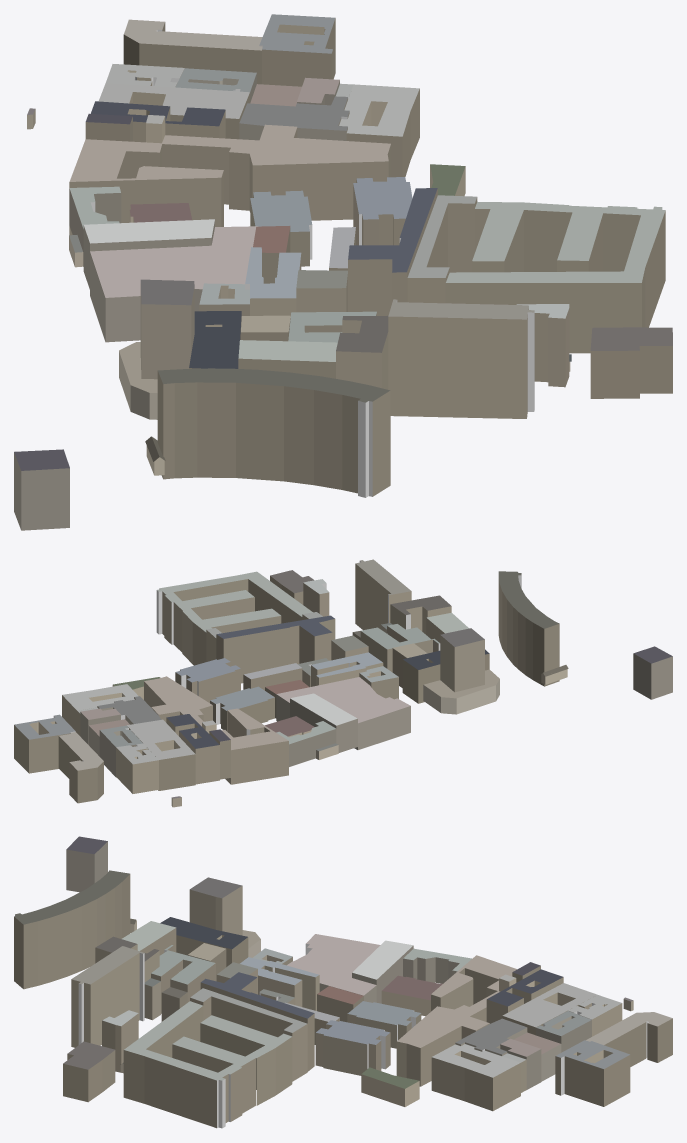
3 views of the same model, one above another, from view 1: azimuth 30°, elevation 25°; view 2: azimuth 150°, elevation 25°; view 3: azimuth 270°, elevation 25° (orthographic). The views are drawn at different scales.
Visible parts, largest first — view 1: tuile; view 2: tuile; view 3: tuile.
Part boxes in pixels (bbox=[...]): tuile: bbox=[14, 14, 672, 530]; tuile: bbox=[14, 559, 672, 807]; tuile: bbox=[14, 836, 672, 1128].
Bounding box in the file's own units: 263 × 38.71 × 296.
